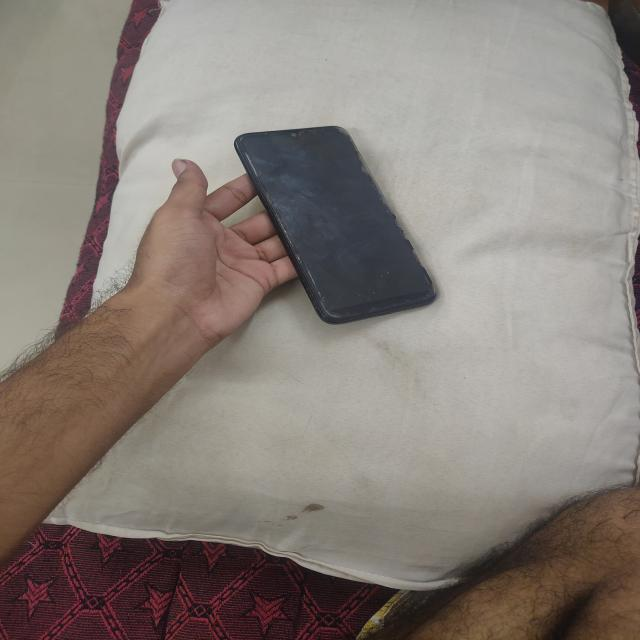Phone: (229, 123, 443, 329)
